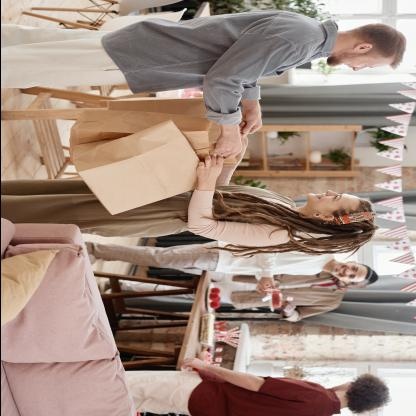Eye: (330, 195, 338, 201), (350, 266, 356, 272), (347, 274, 354, 279)
Mouth: (336, 266, 344, 276), (315, 192, 323, 200)
Nose: (324, 190, 338, 196), (344, 268, 352, 274)
